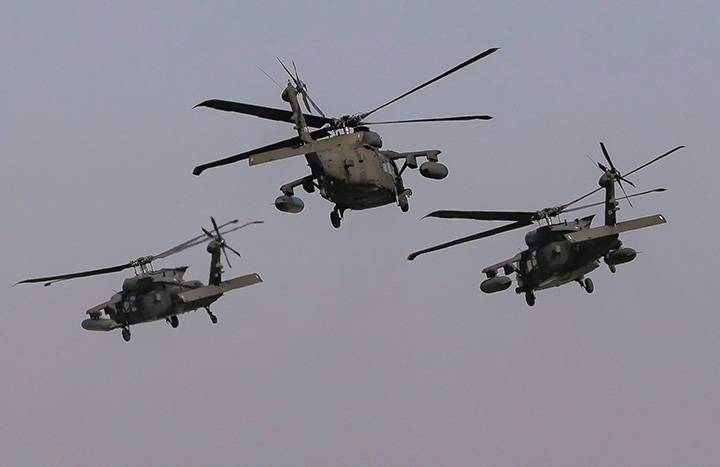MilitaryHelicopter: (466, 143, 687, 308), (198, 86, 449, 208), (41, 243, 291, 347)
